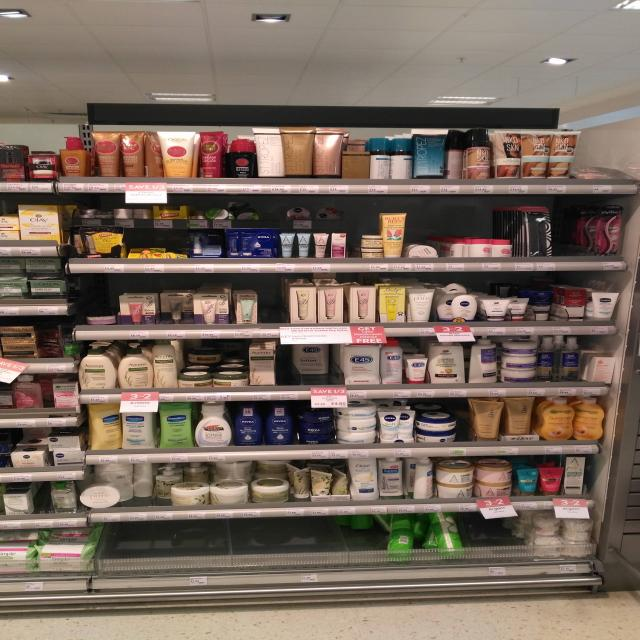void: (107, 524, 330, 560), (475, 515, 520, 558), (560, 210, 587, 258), (264, 282, 285, 323)
